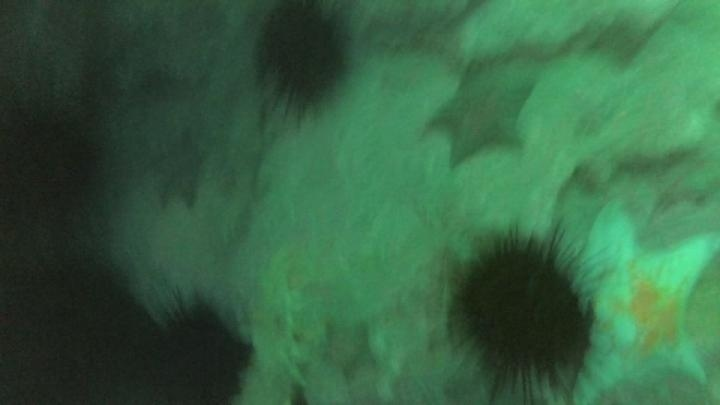echinus: (446, 226, 599, 398), (1, 87, 109, 233), (137, 291, 255, 404), (251, 3, 354, 115)
holothurian: (235, 281, 314, 405)
starfish: (566, 204, 720, 400), (426, 64, 538, 169), (144, 126, 210, 211)
